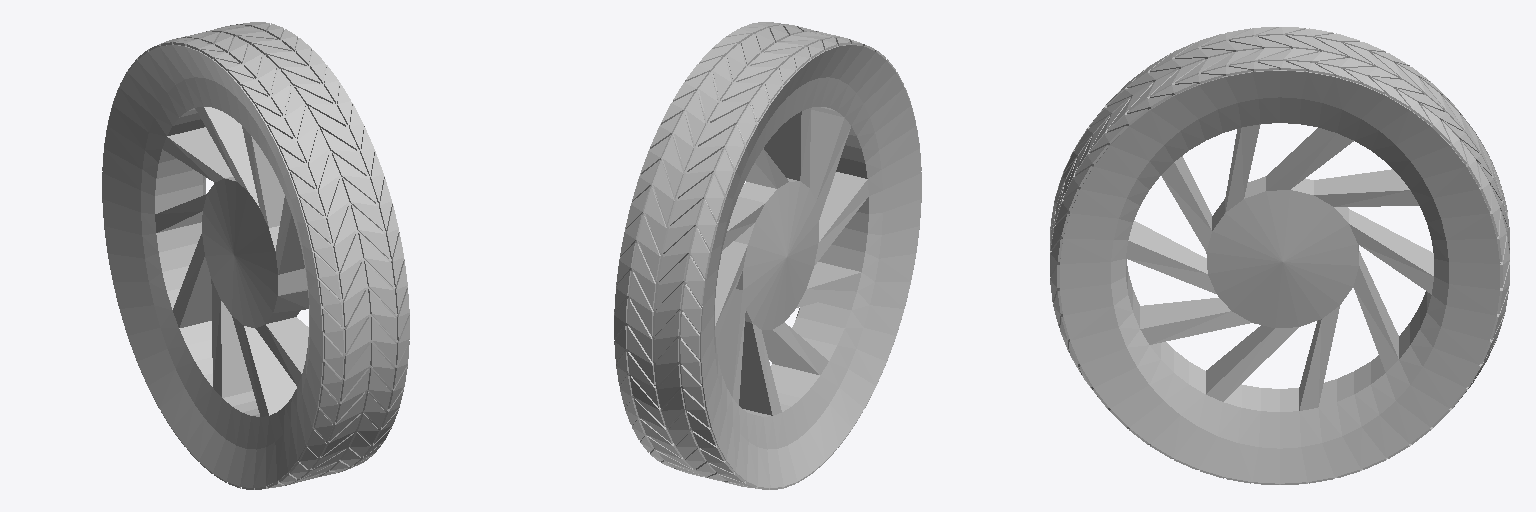
The model's file is GuangThengCarWheel.obj.
3 views of the same model, side by side, from view 1: azimuth 30°, elevation 25°; view 2: azimuth 150°, elevation 25°; view 3: azimuth 270°, elevation 25° (orthographic).
Size of the model in its own units: 0.2977 by 1.37 by 1.37.